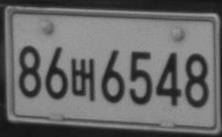4: (154, 51, 182, 106)
5: (128, 50, 153, 105)
6: (100, 49, 125, 104), (45, 46, 68, 99)
8: (184, 51, 210, 108), (17, 44, 42, 98)
버: (70, 57, 95, 100)
